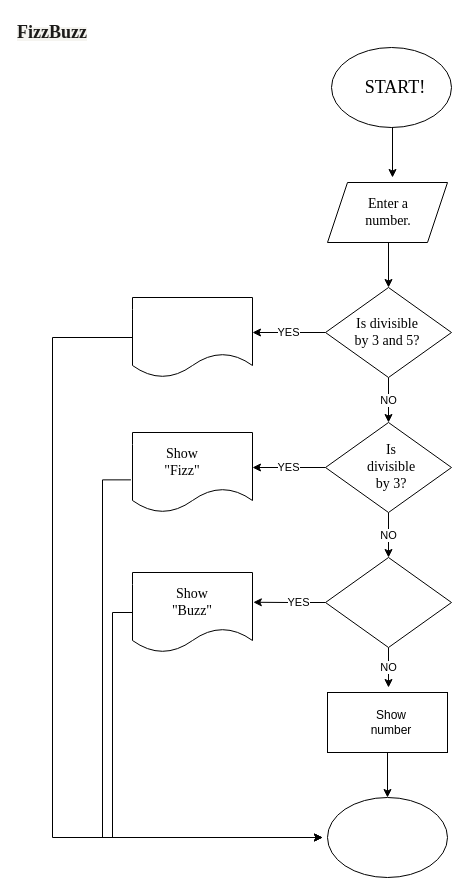
Image size: 469x895. Some labels were removed from this diagram. Here are the shapes that lost their labels. From the top down, the box of each, then its label:
(132, 296, 252, 378): Show "FizzBuzz"
(324, 556, 452, 648): Is divisible by 5?
(326, 796, 448, 878): END!
